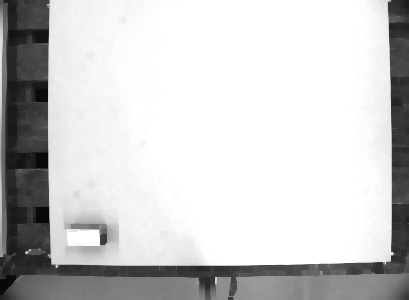b3: (63, 222, 109, 249)
